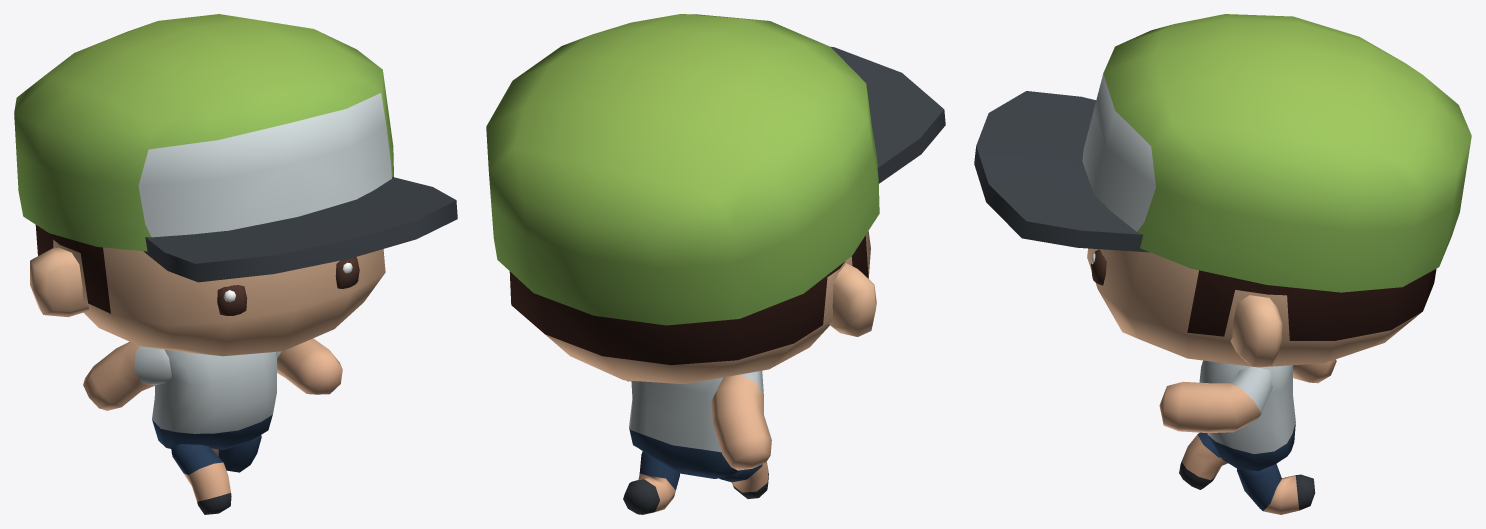
Rendered from run_0011.obj.
The picture shows the model from 3 angles, left to right: view 1: azimuth 30°, elevation 25°; view 2: azimuth 150°, elevation 25°; view 3: azimuth 270°, elevation 25°; orthographic projection. The views are drawn at different scales.
Visible parts, largest first — view 1: Object_41, Object_42, Object_36, Object_44, Object_38; view 2: Object_41, Object_36, Object_44, Object_42; view 3: Object_41, Object_36, Object_42, Object_44.
Boxes of the visible parts, <box> form: Object_41: <box>14,14,393,251</box>; Object_42: <box>138,93,457,282</box>; Object_36: <box>30,225,385,356</box>; Object_44: <box>83,338,342,514</box>; Object_38: <box>217,257,359,315</box>; Object_41: <box>486,14,879,325</box>; Object_36: <box>509,231,876,384</box>; Object_44: <box>623,370,771,514</box>; Object_42: <box>830,46,945,183</box>; Object_41: <box>1103,14,1471,292</box>; Object_36: <box>1087,248,1436,367</box>; Object_42: <box>974,74,1155,252</box>; Object_44: <box>1159,359,1336,514</box>.
Bounding box in the file's own units: 0.9691 × 1.17 × 1.15.
